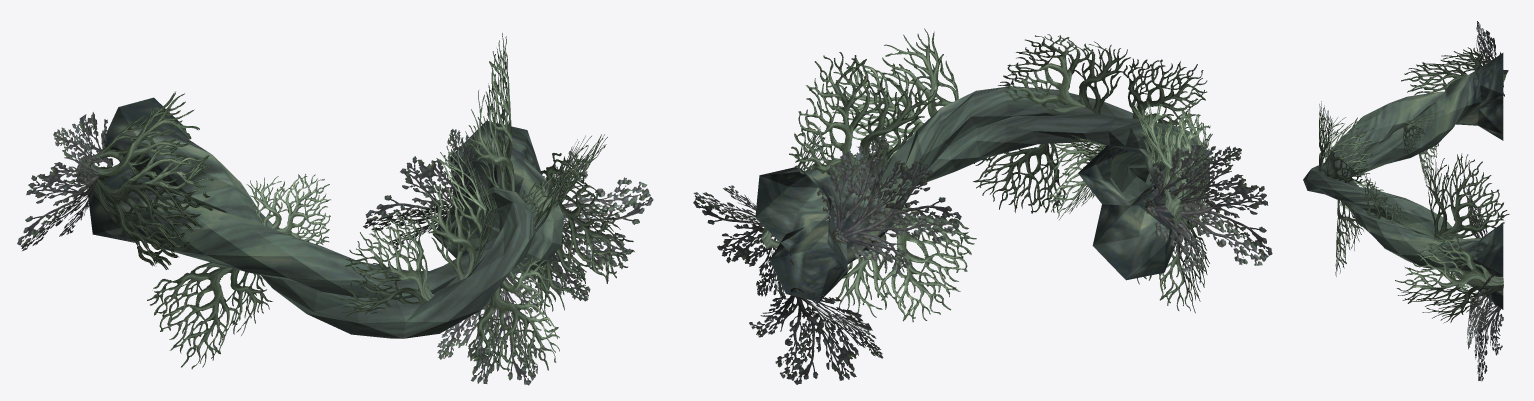
Rendered from zhanchang_fenbu_325_tree02a.obj.
The picture shows the model from 3 angles, left to right: view 1: azimuth 30°, elevation 25°; view 2: azimuth 150°, elevation 25°; view 3: azimuth 270°, elevation 25°; orthographic projection. The views are drawn at different scales.
Parts seen in each view (by area): view 1: beiou_yewai_21_tree02a; view 2: beiou_yewai_21_tree02a; view 3: beiou_yewai_21_tree02a.
Part boxes in pixels (bbox=[...]): beiou_yewai_21_tree02a: bbox=[17, 33, 653, 385]; beiou_yewai_21_tree02a: bbox=[693, 28, 1272, 384]; beiou_yewai_21_tree02a: bbox=[1303, 21, 1509, 381].
Bounding box in the file's own units: 521 × 313 × 256.
Materials: 3 (3 with a texture image).
